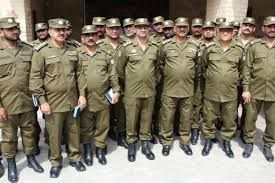uniform: (71, 32, 109, 155), (38, 39, 77, 157), (119, 36, 160, 142), (1, 40, 37, 154), (208, 36, 243, 148), (164, 34, 196, 145), (245, 32, 275, 148), (99, 34, 131, 135)
